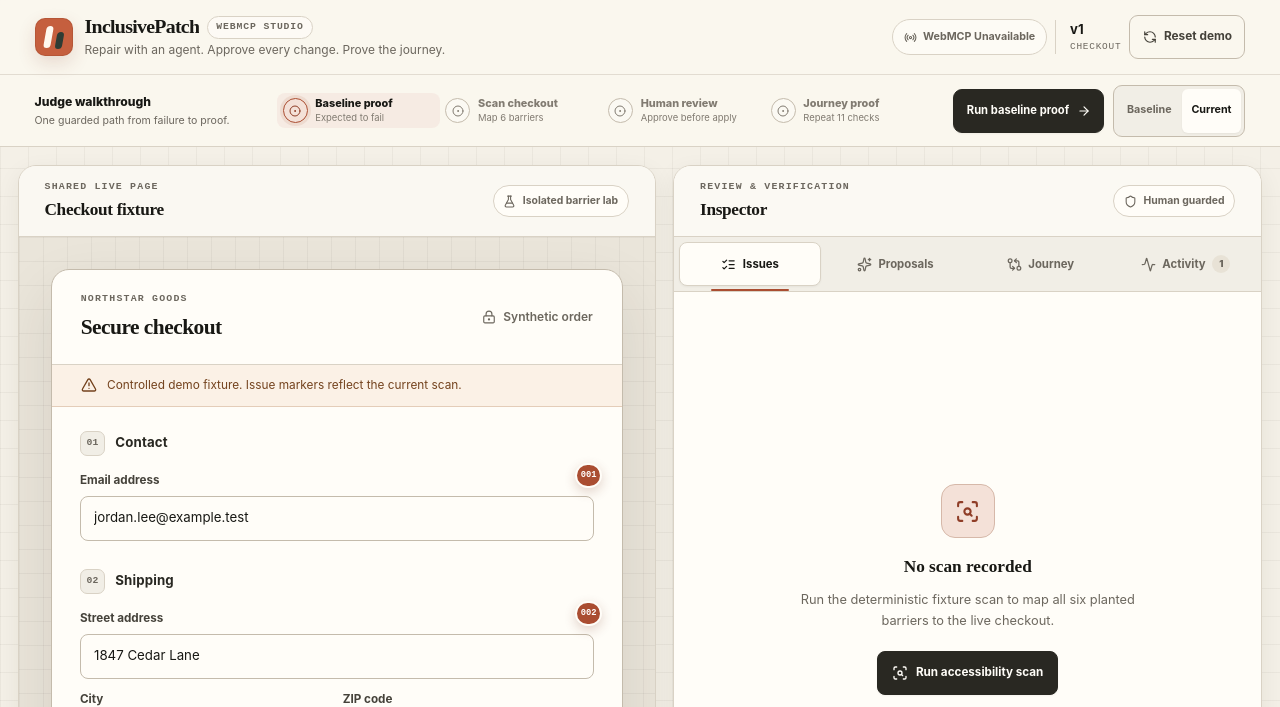
Scenario: human fallback workspace › keeps the cancellation result after the replay promise unwinds
This screenshot has width=1280, height=707.
Click the button "Run baseline proof".
click(1029, 110)  # box top-left (953, 88), bottom-right (1104, 132)
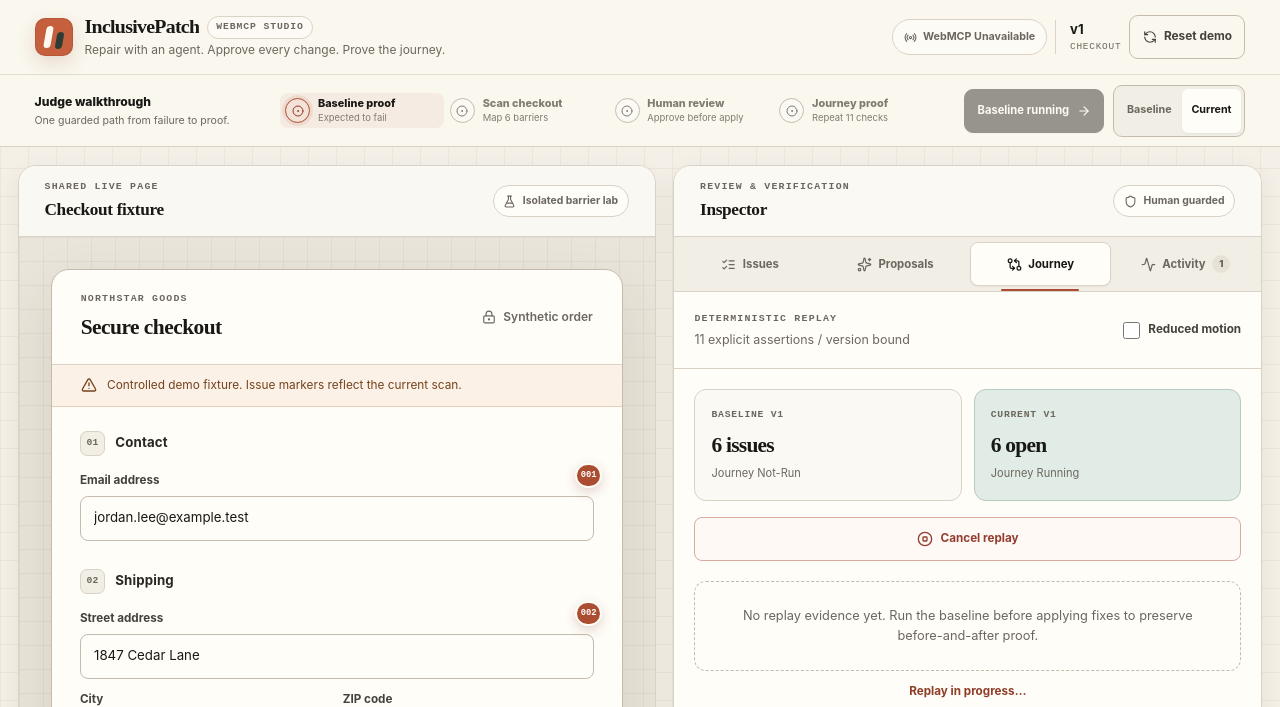
Click the button "Journey".
click(1040, 264)  # box top-left (970, 242), bottom-right (1111, 286)
(page scrolled)
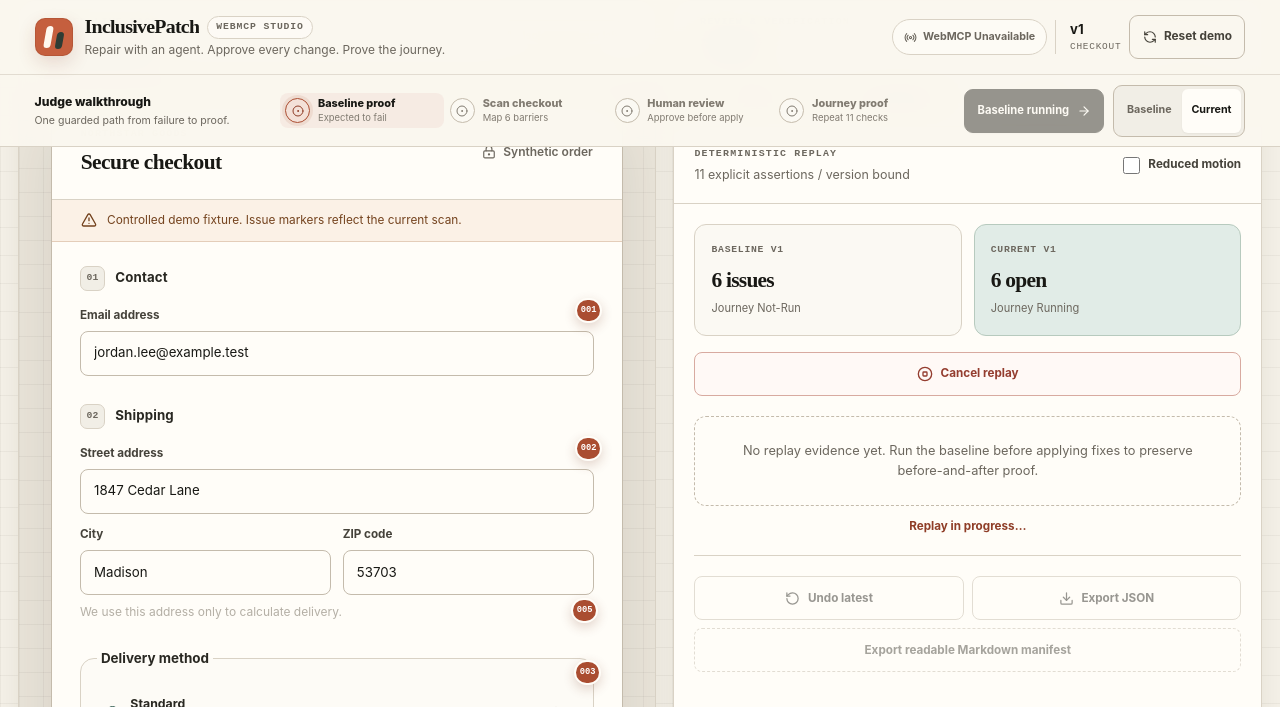
Click the button "Cancel replay".
click(968, 374)  # box top-left (694, 352), bottom-right (1241, 396)
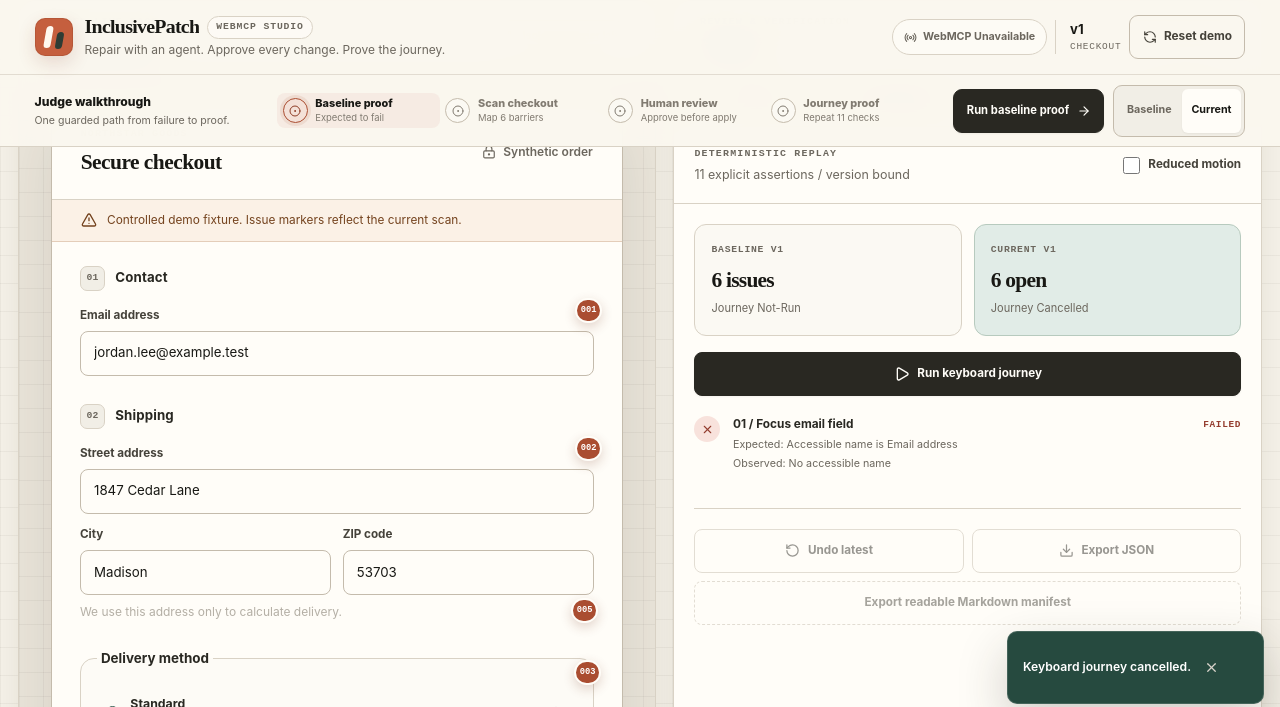
Result: the text "Keyboard journey cancelled." is shown at top-left (1023, 658), bottom-right (1191, 676)
